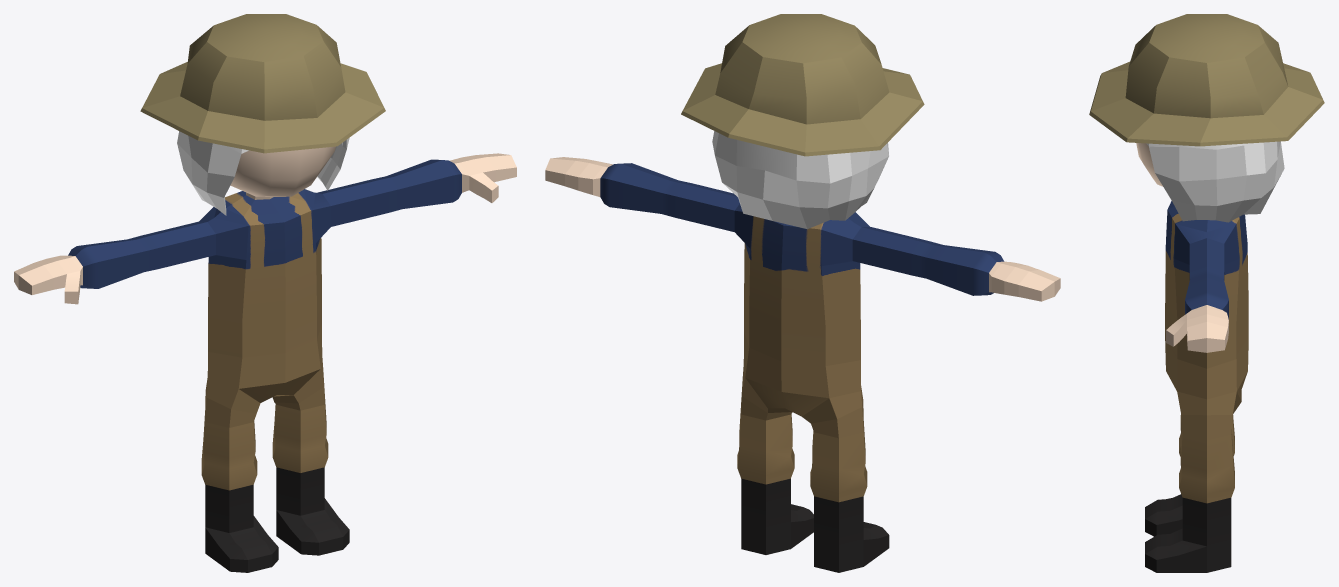
File: CharacterHatHair.fbx
3 views of the same model, side by side, from view 1: azimuth 30°, elevation 25°; view 2: azimuth 150°, elevation 25°; view 3: azimuth 270°, elevation 25° (orthographic). The views are drawn at different scales.
Visible parts, largest first — view 1: polySurface1, pCylinder5, polySurface2; view 2: polySurface1, pCylinder5, polySurface2; view 3: polySurface1, pCylinder5, polySurface2.
Part boxes in pixels (x1,y1,x2,y2): polySurface1: (14, 146, 516, 572); pCylinder5: (140, 14, 385, 153); polySurface2: (177, 131, 349, 215); polySurface1: (545, 157, 1060, 572); pCylinder5: (681, 14, 924, 156); polySurface2: (712, 131, 888, 229); polySurface1: (1136, 143, 1248, 572); pCylinder5: (1089, 14, 1324, 146); polySurface2: (1146, 141, 1284, 222).
Bounding box in the file's own units: 29.74 × 29.4 × 12.22.
